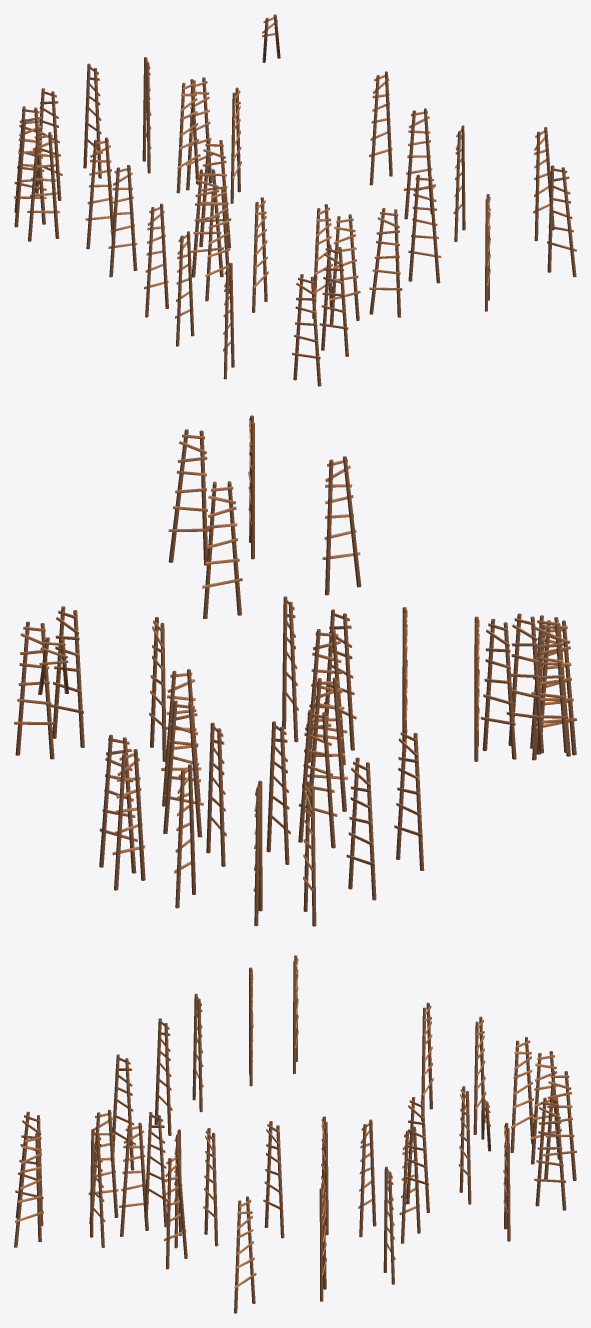
The model's file is pilares_madera.fbx.
The picture shows the model from 3 angles, top to bottom: view 1: azimuth 30°, elevation 25°; view 2: azimuth 150°, elevation 25°; view 3: azimuth 270°, elevation 25°; orthographic projection. The views are drawn at different scales.
Visible parts, largest first — view 1: Cube.056; view 2: Cube.056; view 3: Cube.056.
Boxes of the visible parts, bbox=[...] form: Cube.056: bbox=[14, 14, 576, 386]; Cube.056: bbox=[14, 415, 576, 926]; Cube.056: bbox=[14, 955, 576, 1313].
Size of the model in its own units: 22366 by 11569 by 28662.
